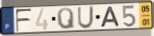4: (35, 8, 50, 31)
5: (122, 4, 137, 28)
A: (99, 6, 121, 28)
F: (15, 8, 33, 33)
Q: (56, 7, 76, 30)
U: (77, 6, 95, 30)
